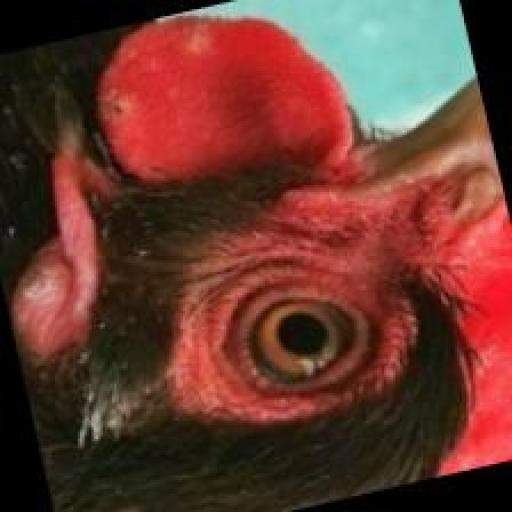disease: (99, 15, 300, 158)
